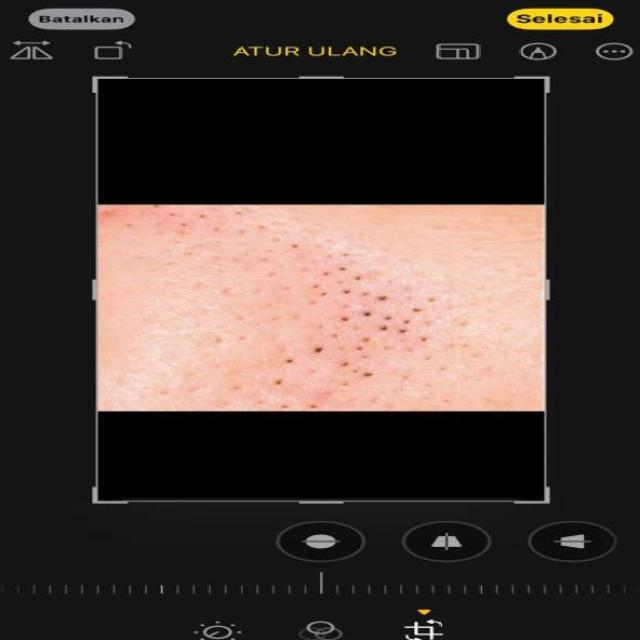blackhead: (194, 221, 451, 406)
